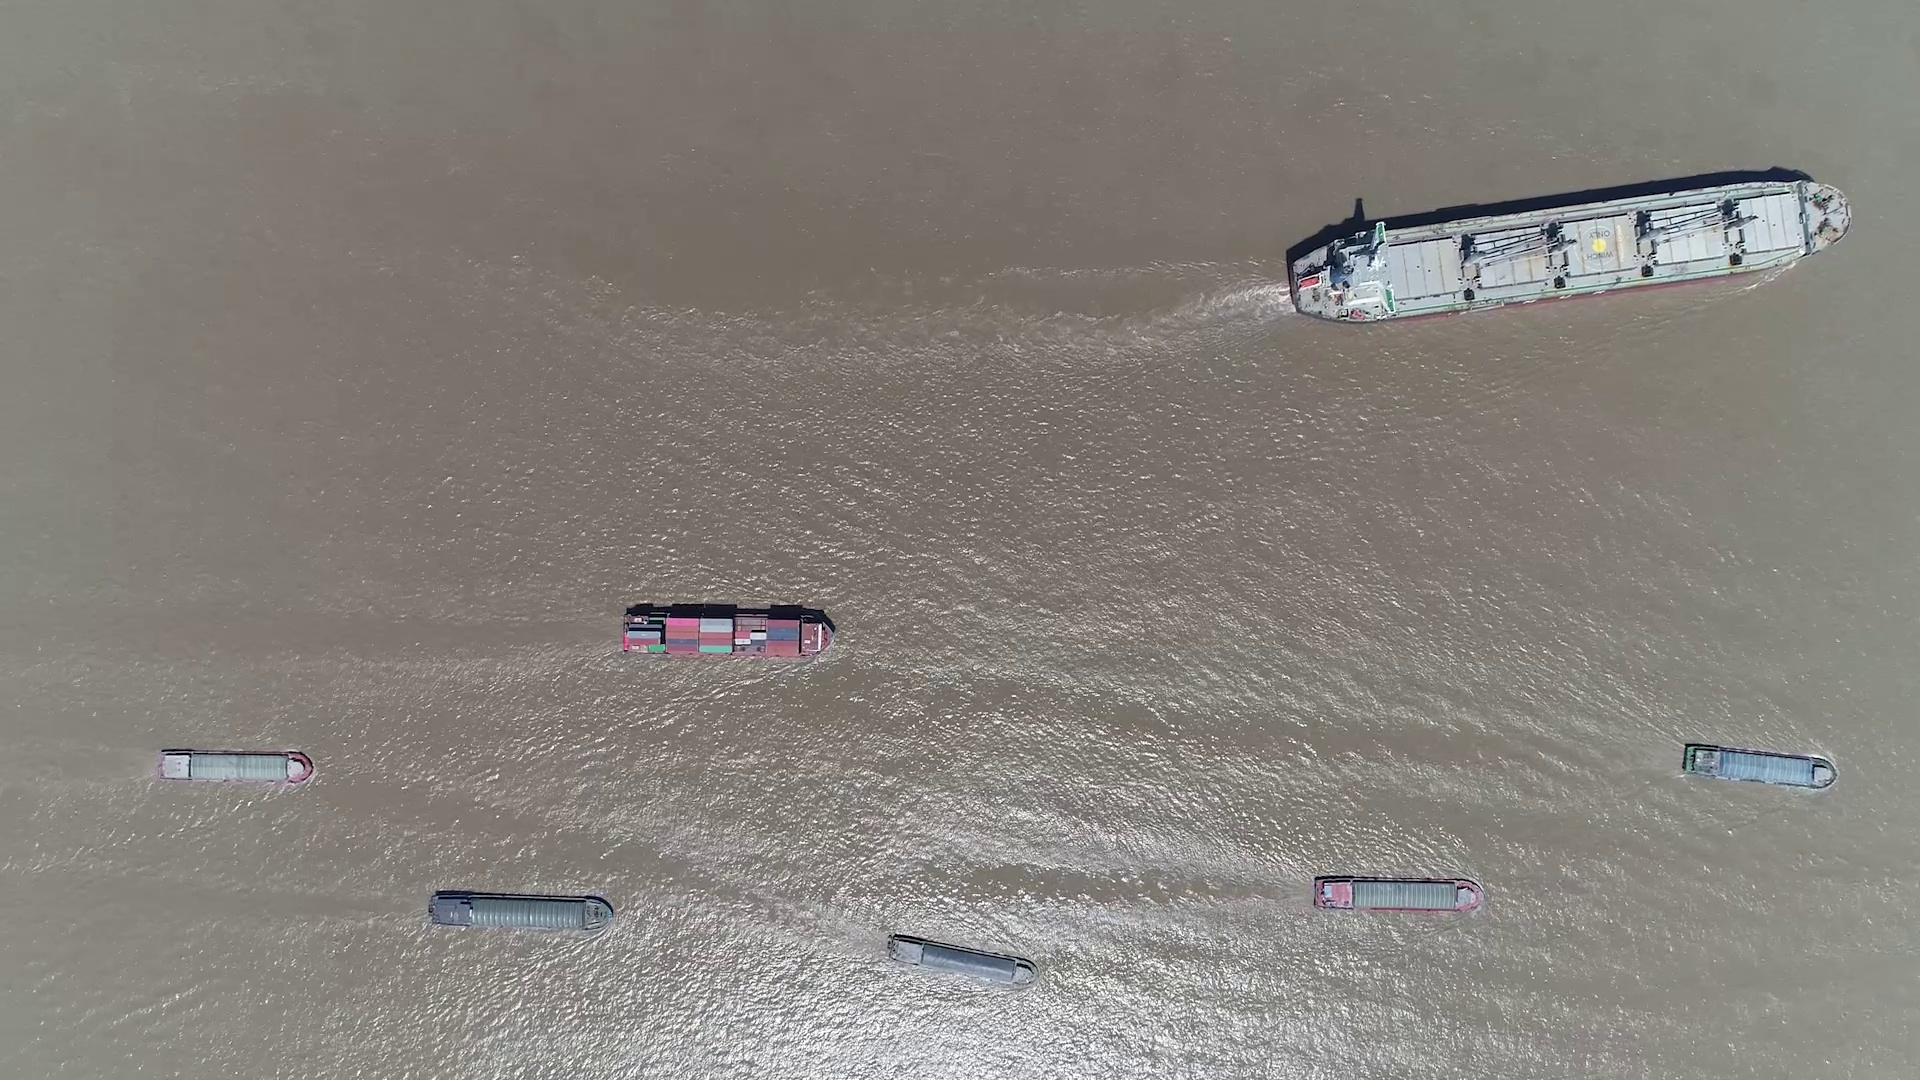ship: (1284, 179, 1851, 323), (622, 608, 833, 658), (887, 935, 1036, 986), (427, 891, 612, 931), (1681, 742, 1836, 789), (1313, 876, 1482, 914), (158, 749, 313, 783)
